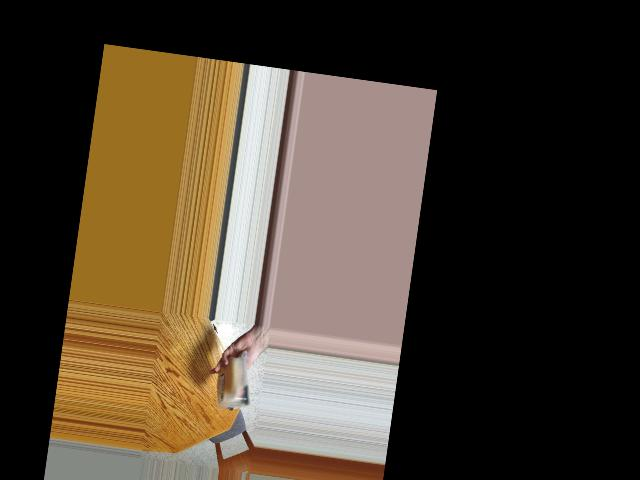cheese: (214, 357, 251, 408)
